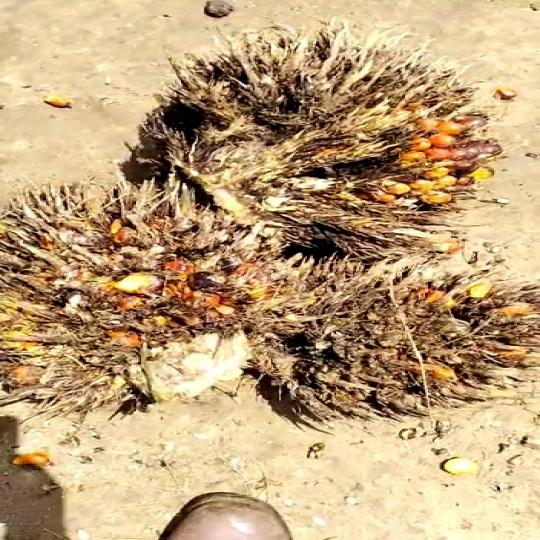terlalu masak: (126, 30, 494, 252), (0, 188, 309, 427), (250, 258, 540, 435)
